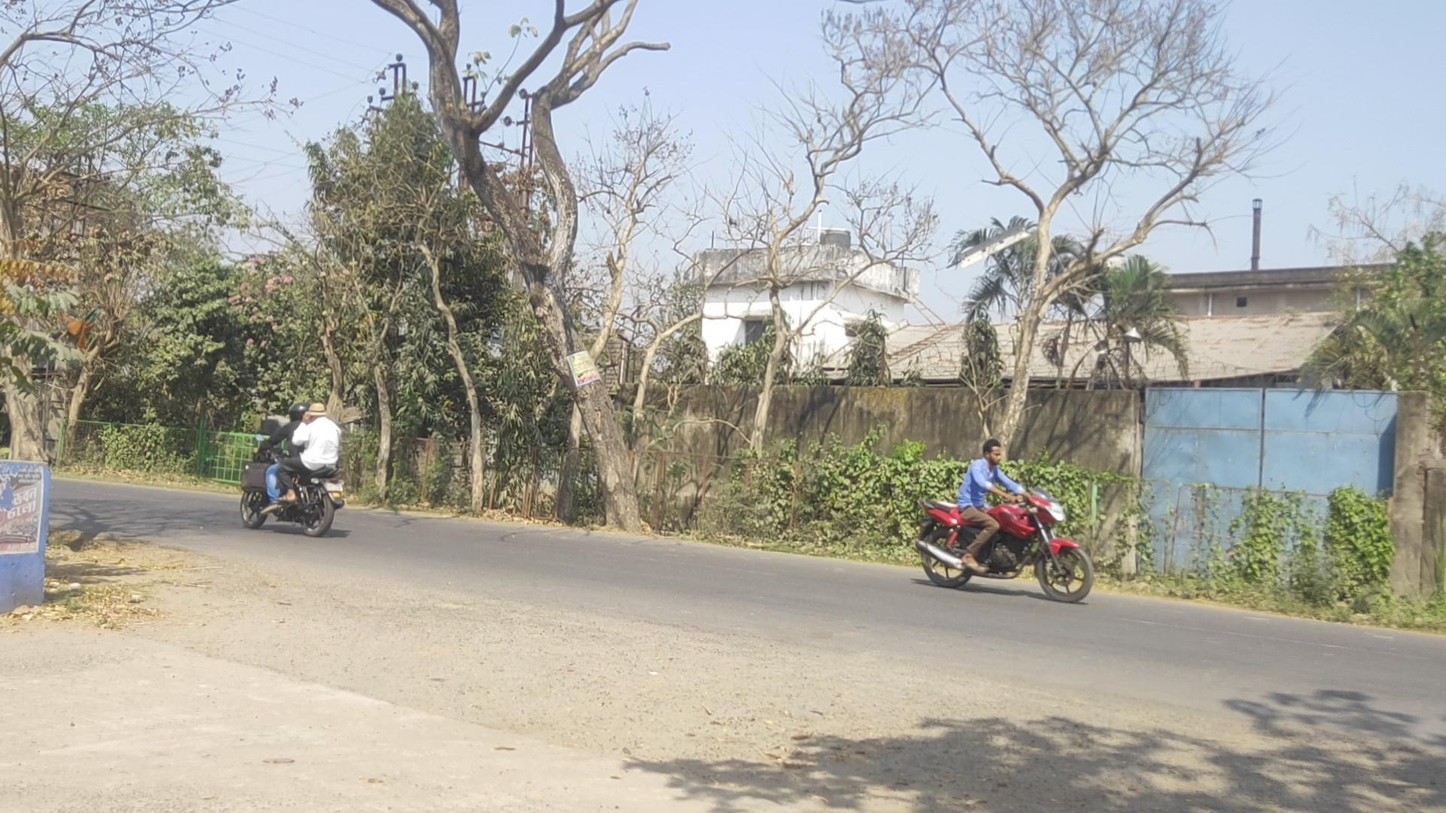bike: (916, 440, 1094, 602), (239, 402, 345, 537)
